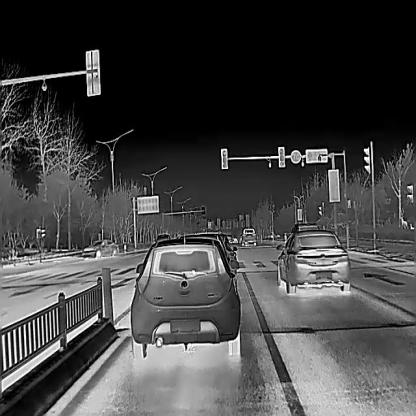car: (129, 240, 241, 356), (275, 229, 350, 293), (176, 234, 238, 292), (80, 238, 119, 258), (289, 222, 319, 232), (155, 233, 170, 242), (226, 234, 232, 243)
truck: (240, 228, 256, 246)
